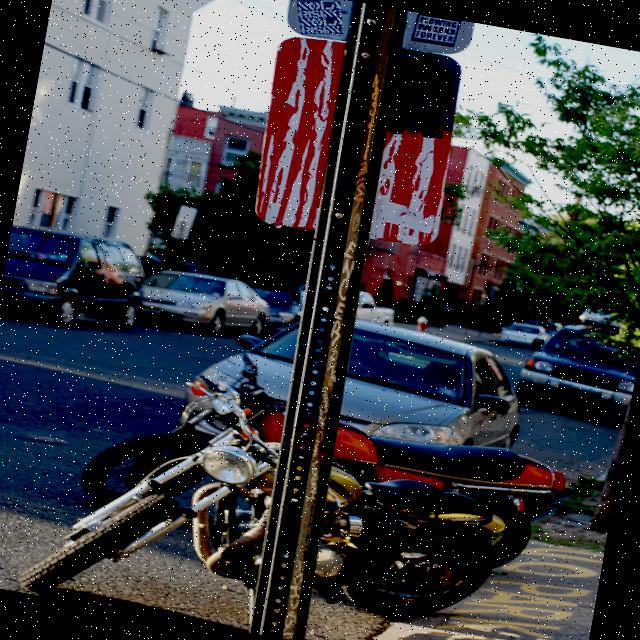fire_hydrant: (414, 314, 428, 332)
